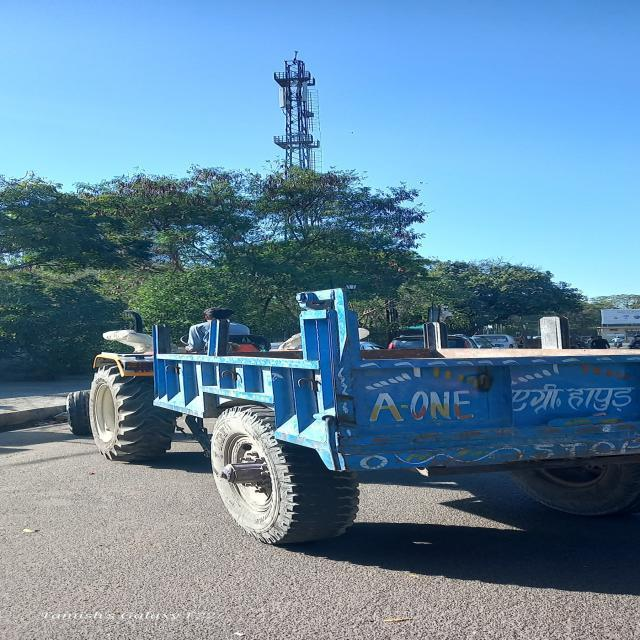uncovered: (106, 333, 640, 543)
